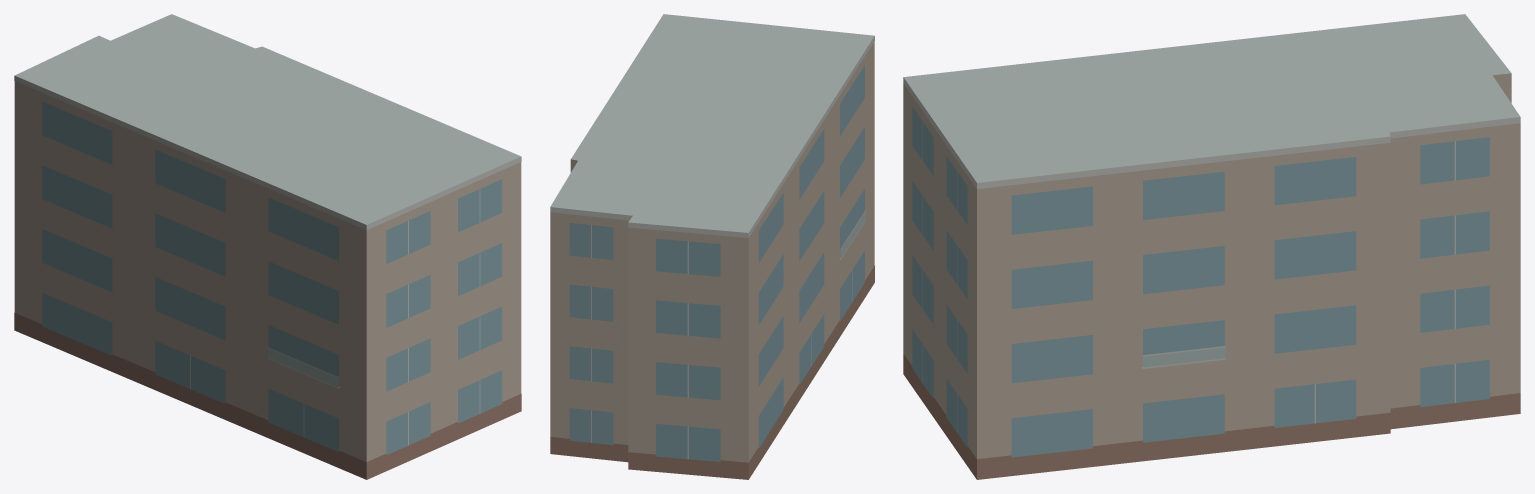
The model's file is survey-upis-32628766.glb.
3 views of the same model, side by side, from view 1: azimuth 30°, elevation 25°; view 2: azimuth 150°, elevation 25°; view 3: azimuth 270°, elevation 25° (orthographic). The views are drawn at different scales.
Visible parts, largest first — view 1: survey-upis-32628766.tmp; view 2: survey-upis-32628766.tmp; view 3: survey-upis-32628766.tmp.
Part boxes in pixels (left/top/right/bottom): survey-upis-32628766.tmp: left=14, top=14, right=521, bottom=479; survey-upis-32628766.tmp: left=550, top=14, right=874, bottom=479; survey-upis-32628766.tmp: left=903, top=14, right=1520, bottom=479.
Bounding box in the file's own units: 14.42 × 11.8 × 22.25.
